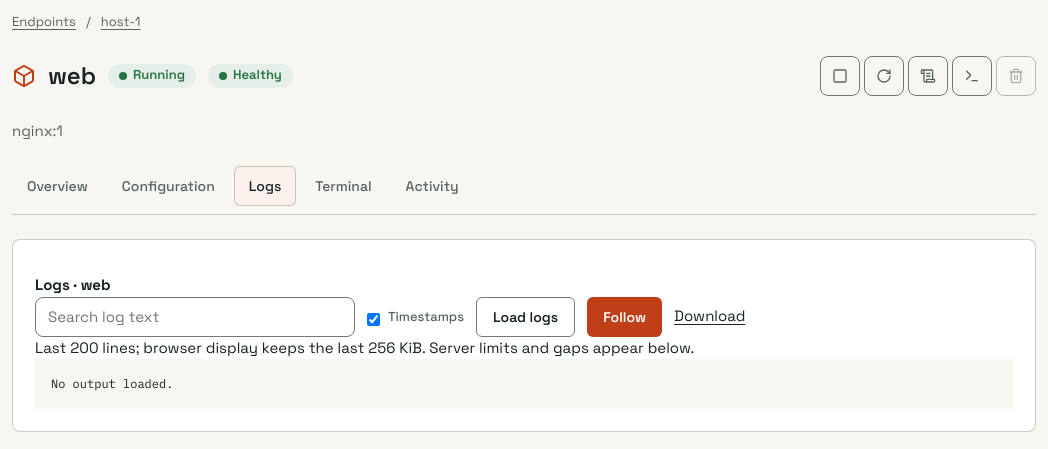
Test: opens the tab named in the URL and puts tab changes in the URL
The image size is (1048, 449).
Expected: the button "Load logs" is shown, left=476, top=296, right=575, bottom=336
Click the button "Activity" at (432, 186), box left=391, top=166, right=474, bottom=206
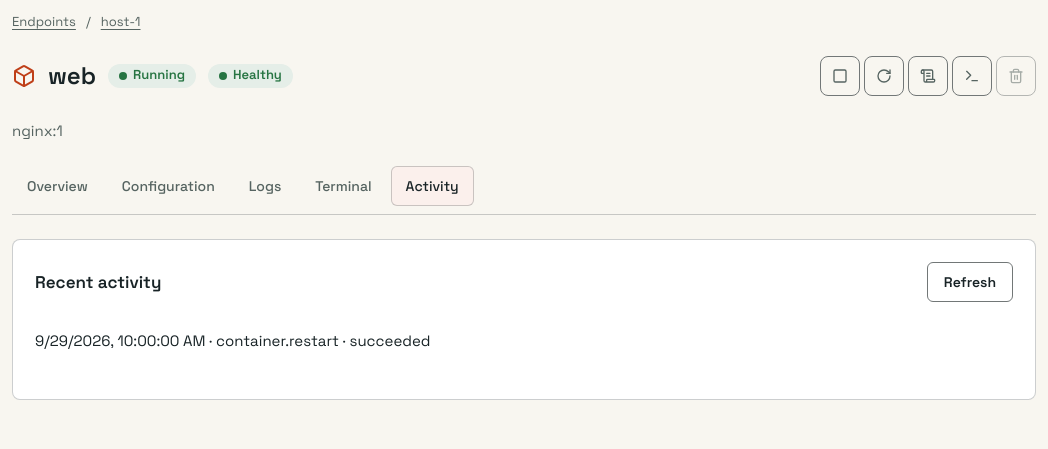
Now the list item "9/29/2026, 10:00:00 AM · container.restart · succeeded" is shown, box left=35, top=331, right=430, bottom=350
